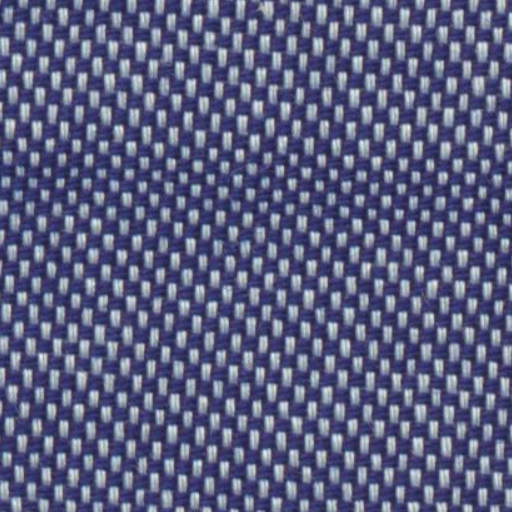TuoSha: (10, 94, 496, 278)
